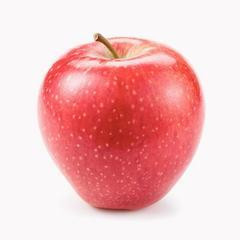apple: (34, 36, 206, 213)
